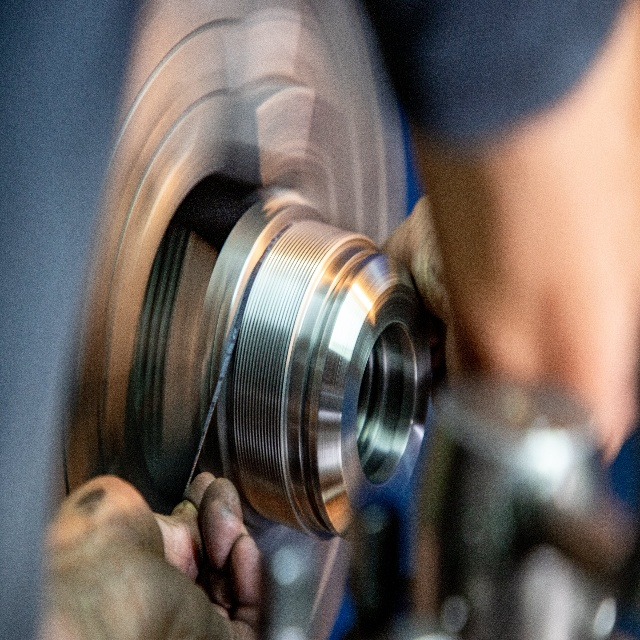Sin_guantes: (35, 463, 266, 640)
